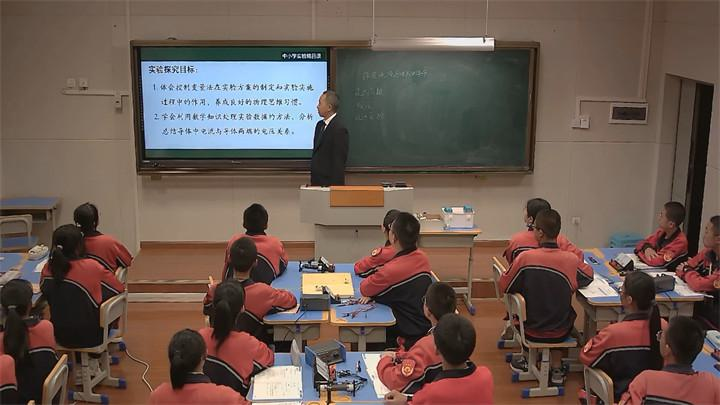listen: (526, 209, 570, 326), (657, 312, 709, 400), (605, 264, 654, 355), (2, 269, 42, 366), (70, 186, 110, 272), (383, 211, 429, 281), (686, 207, 720, 300), (642, 187, 683, 262), (208, 284, 250, 352), (233, 190, 280, 243), (421, 274, 452, 344)
